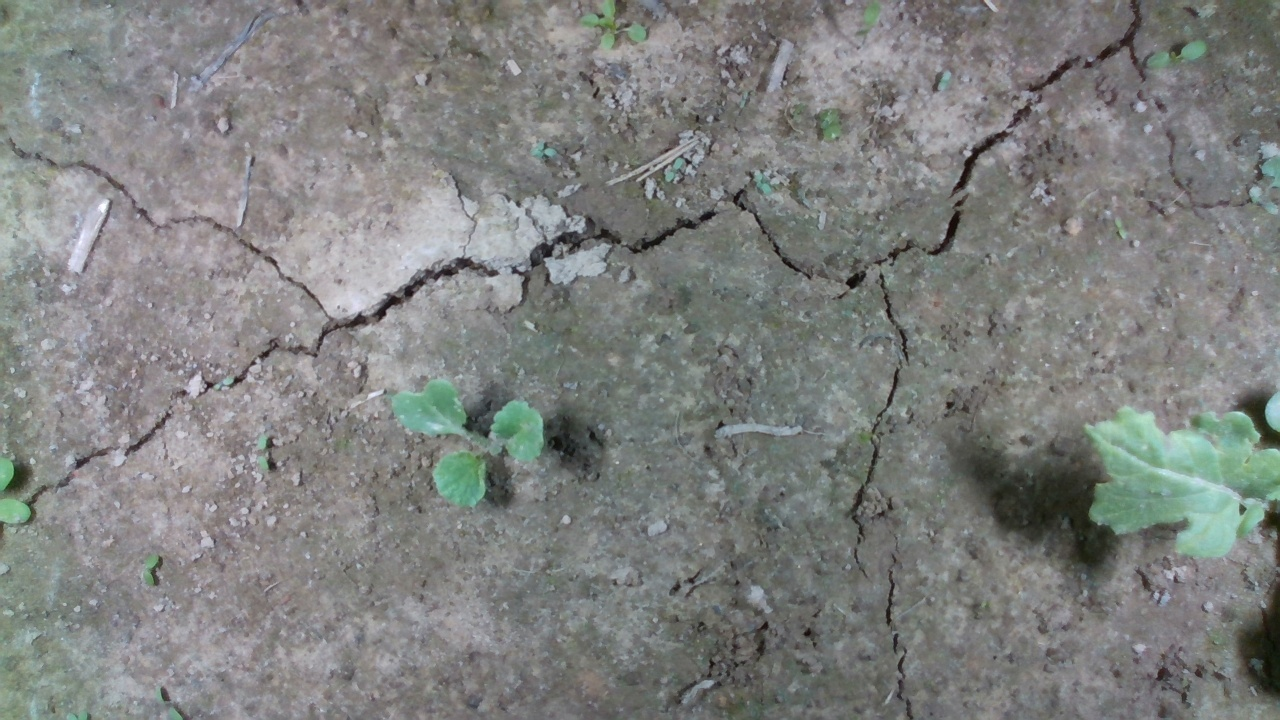weed: (128, 552, 176, 597), (1145, 30, 1193, 64), (243, 423, 269, 471), (206, 367, 249, 390), (525, 136, 559, 162), (748, 167, 786, 189), (934, 68, 960, 92)
